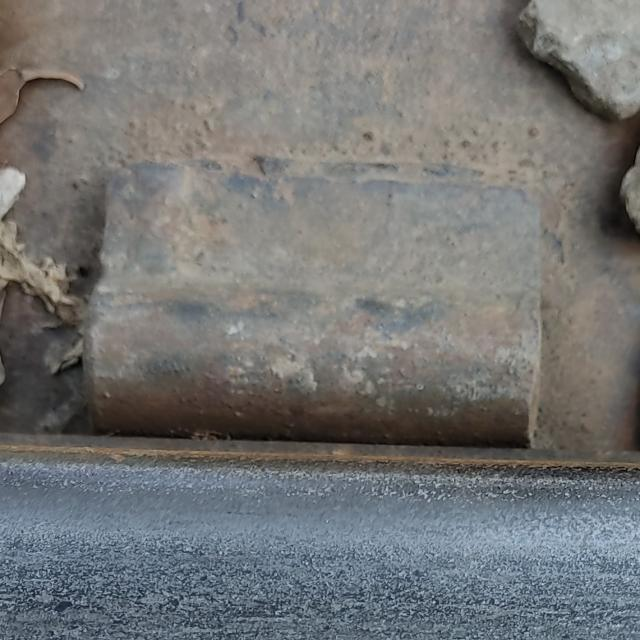track_bolt_missing: (76, 248, 548, 439)
